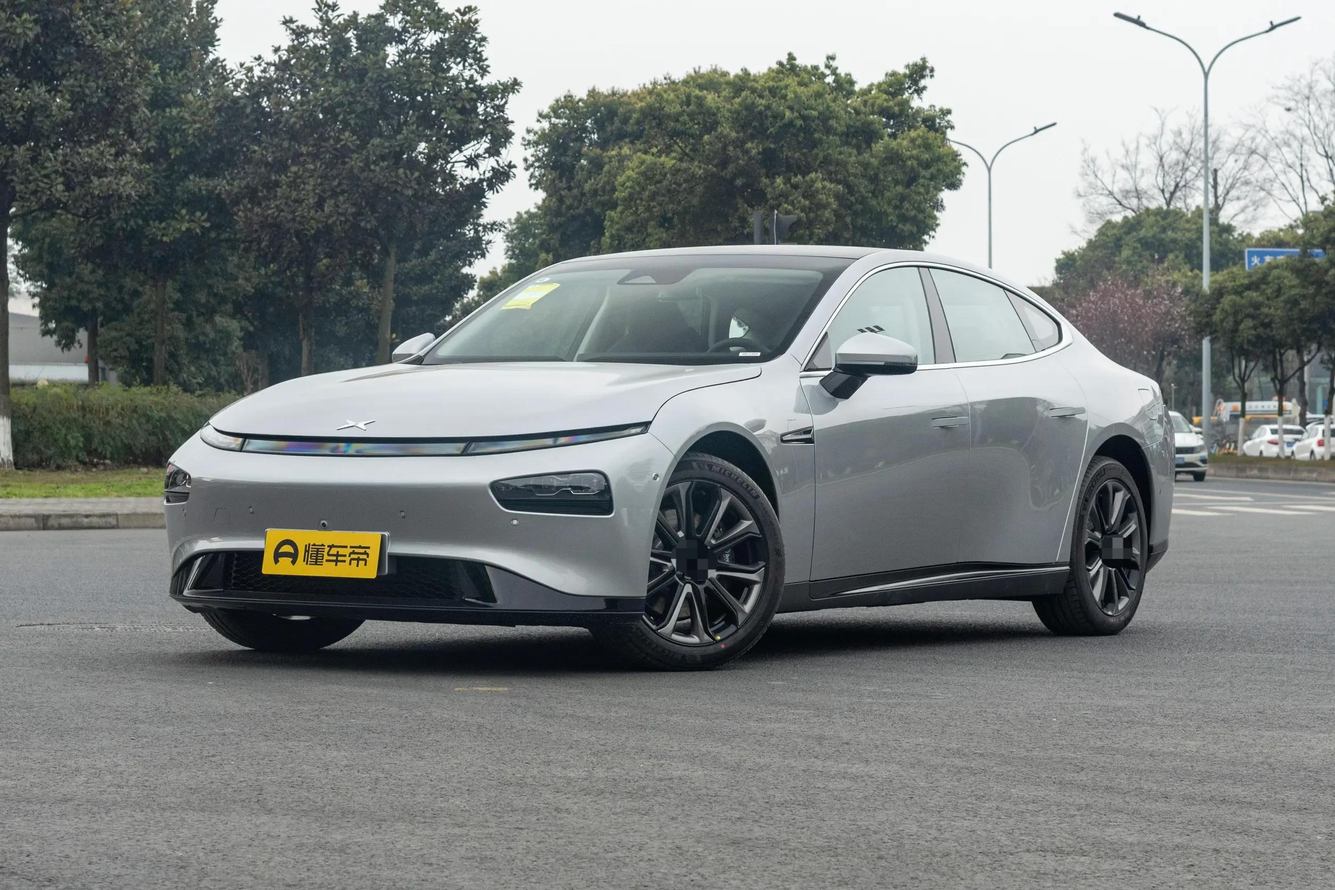XPeng Motors: (337, 419, 376, 431)
